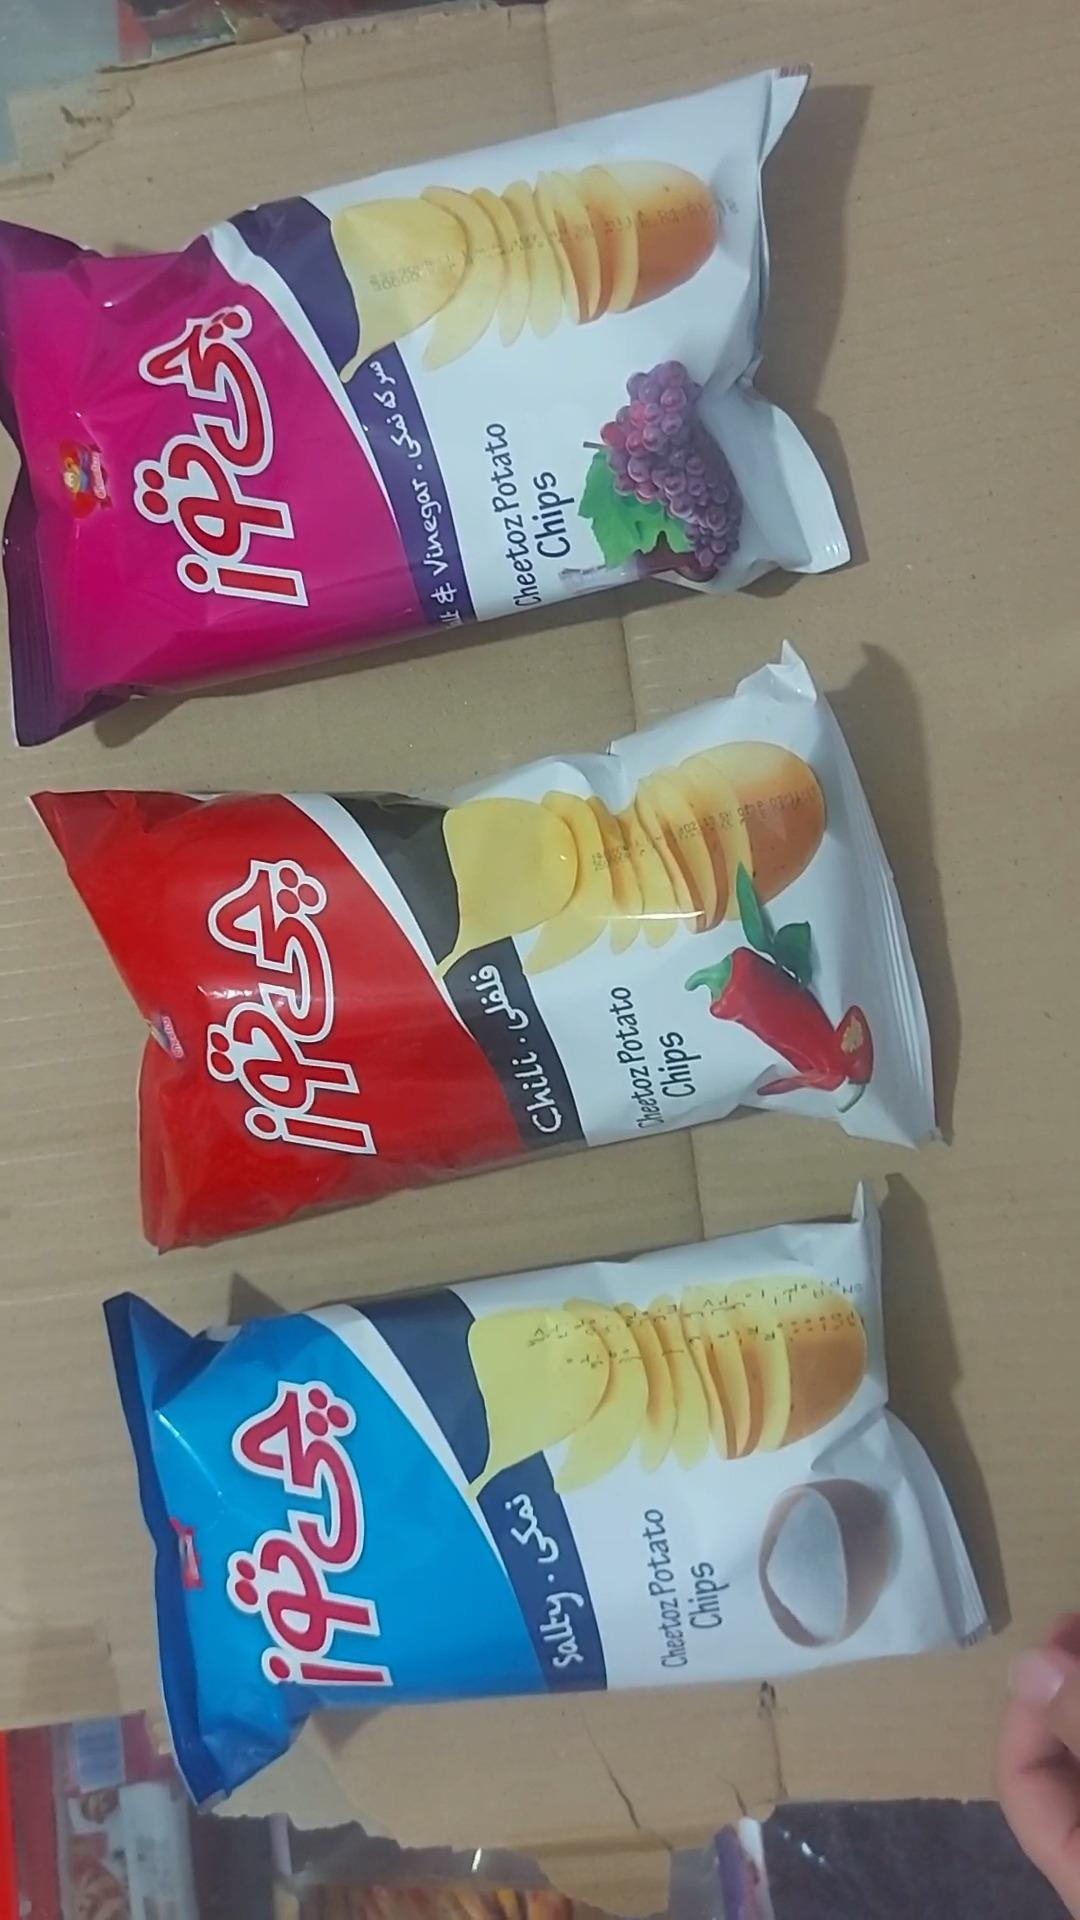Cheetoz chili chips: (29, 644, 939, 1255)
Cheetoz salty chips: (102, 1185, 996, 1815)
Cheetoz vinegar chips: (0, 66, 861, 750)
